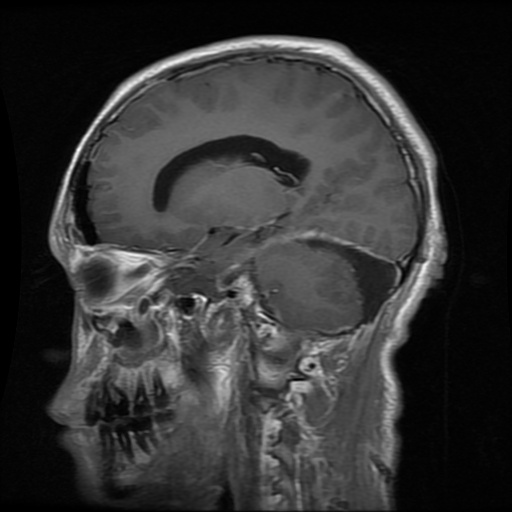glioma: (294, 240, 396, 323)
